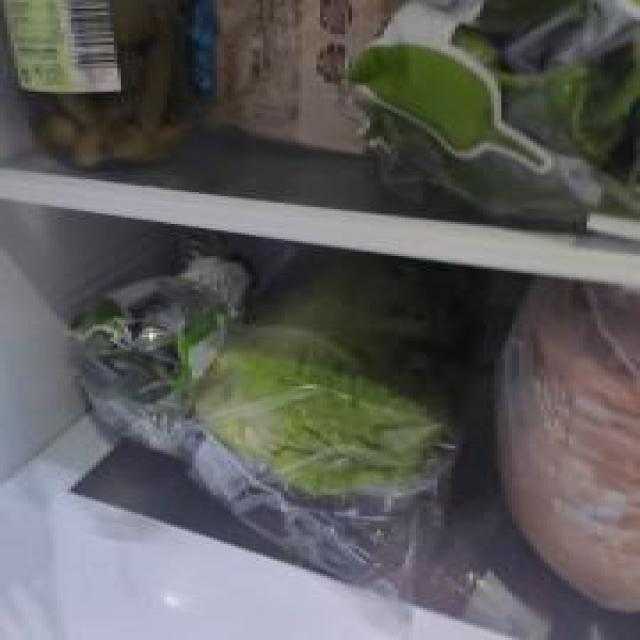bread: (183, 0, 410, 151)
salad: (180, 202, 503, 600)
